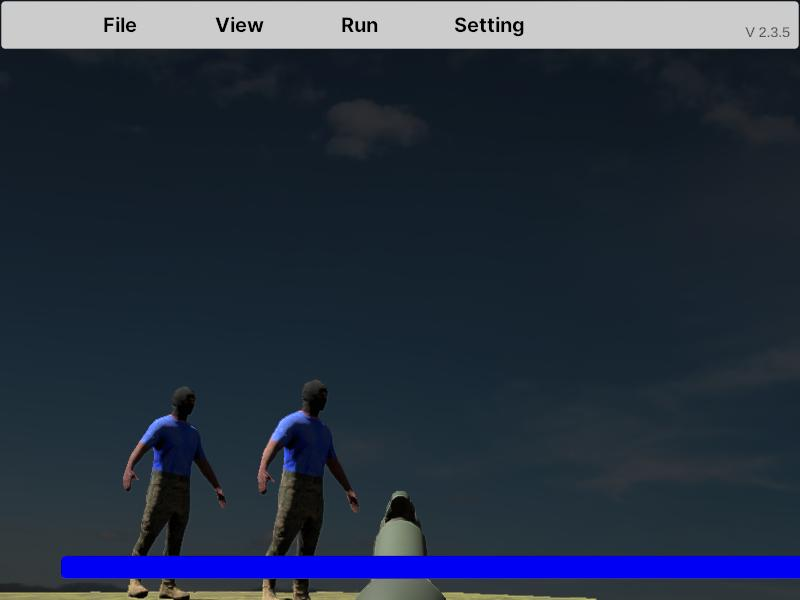Human: (257, 378, 359, 597), (123, 385, 225, 598)
